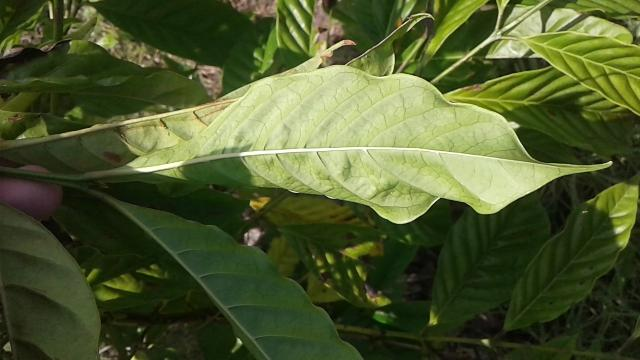healthy: (84, 62, 611, 222)
